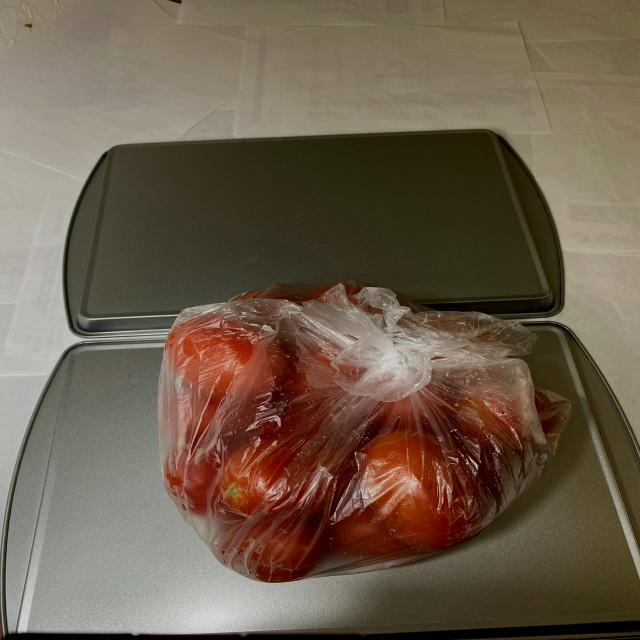tomato: (159, 288, 559, 580)
